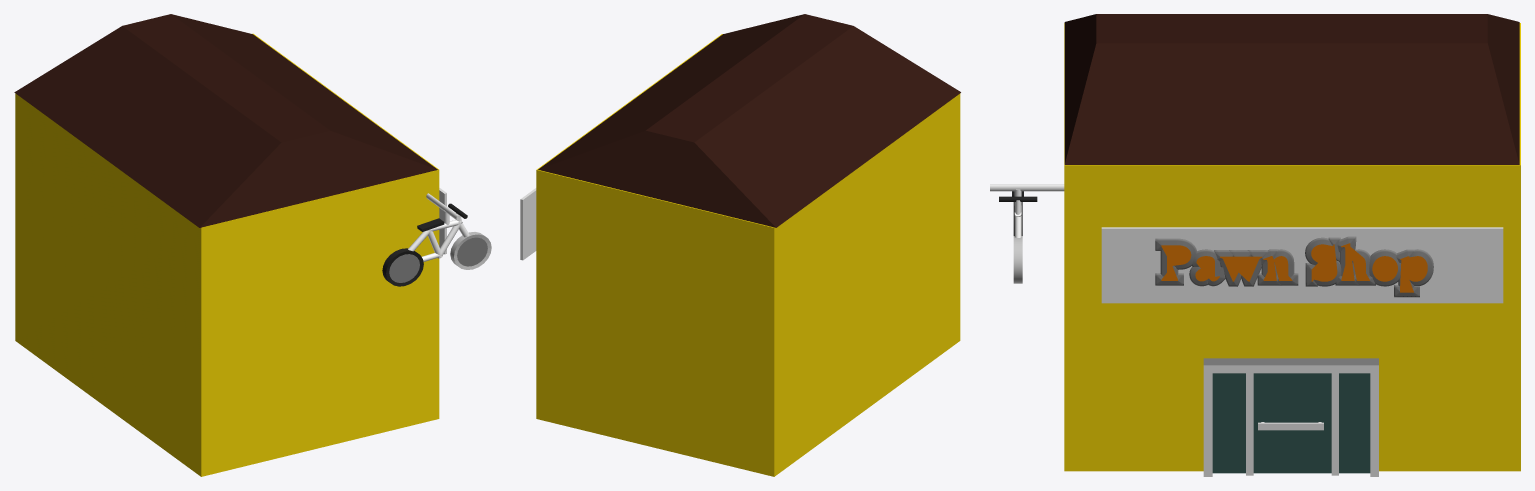
Rendered from building_Pawn_Shop.obj.
3 views of the same model, side by side, from view 1: azimuth 30°, elevation 25°; view 2: azimuth 150°, elevation 25°; view 3: azimuth 270°, elevation 25° (orthographic). The views are drawn at different scales.
Parts seen in each view (by area): view 1: polySurface128; view 2: polySurface128; view 3: polySurface128.
Boxes of the visible parts, box(x1,y1,x2,y2) form: polySurface128: box(14, 14, 491, 476); polySurface128: box(520, 14, 960, 476); polySurface128: box(990, 14, 1520, 476).
Size of the model in its own units: 6.55 by 6.96 by 9.03.
